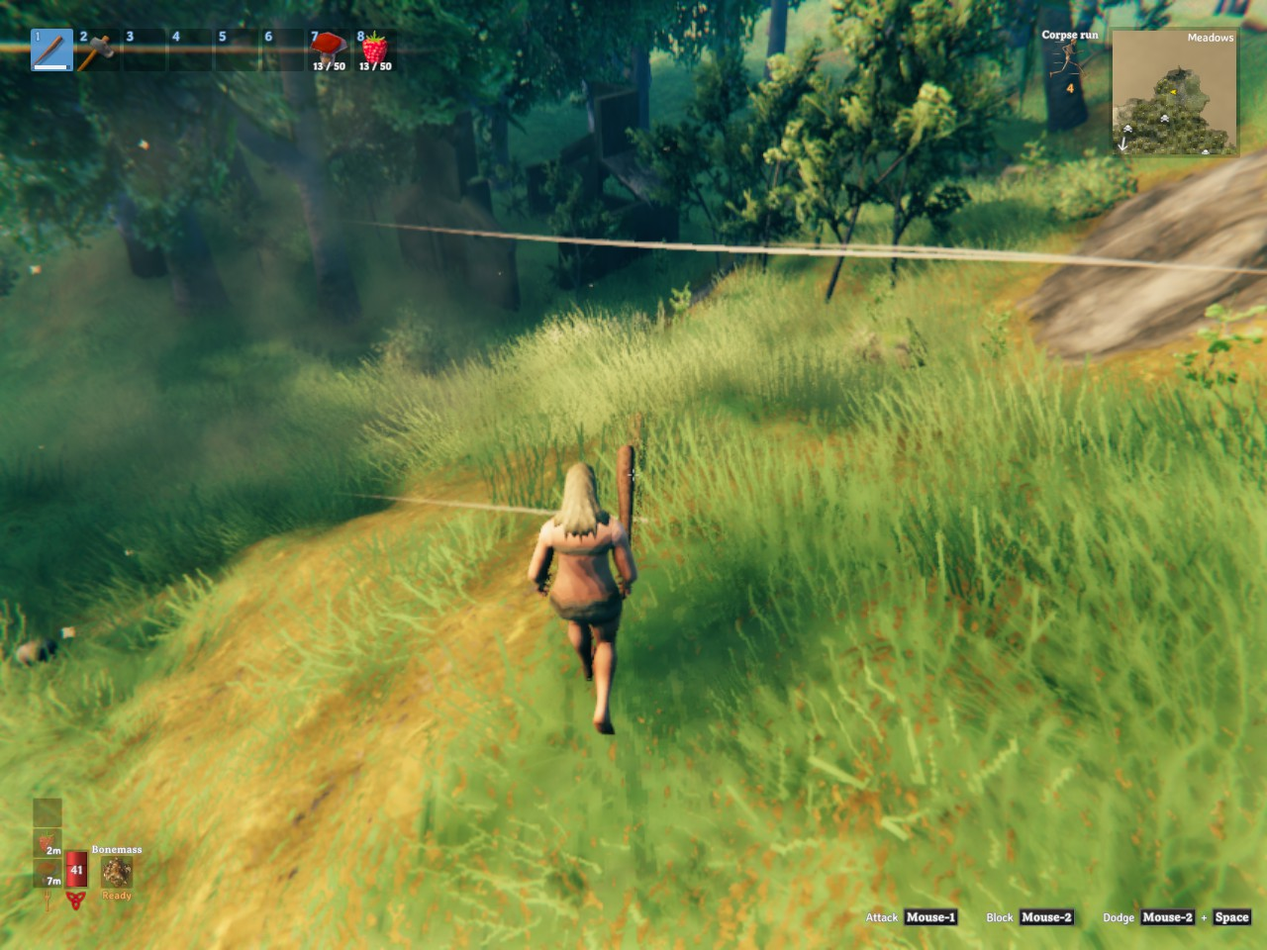House: (390, 90, 677, 296)
